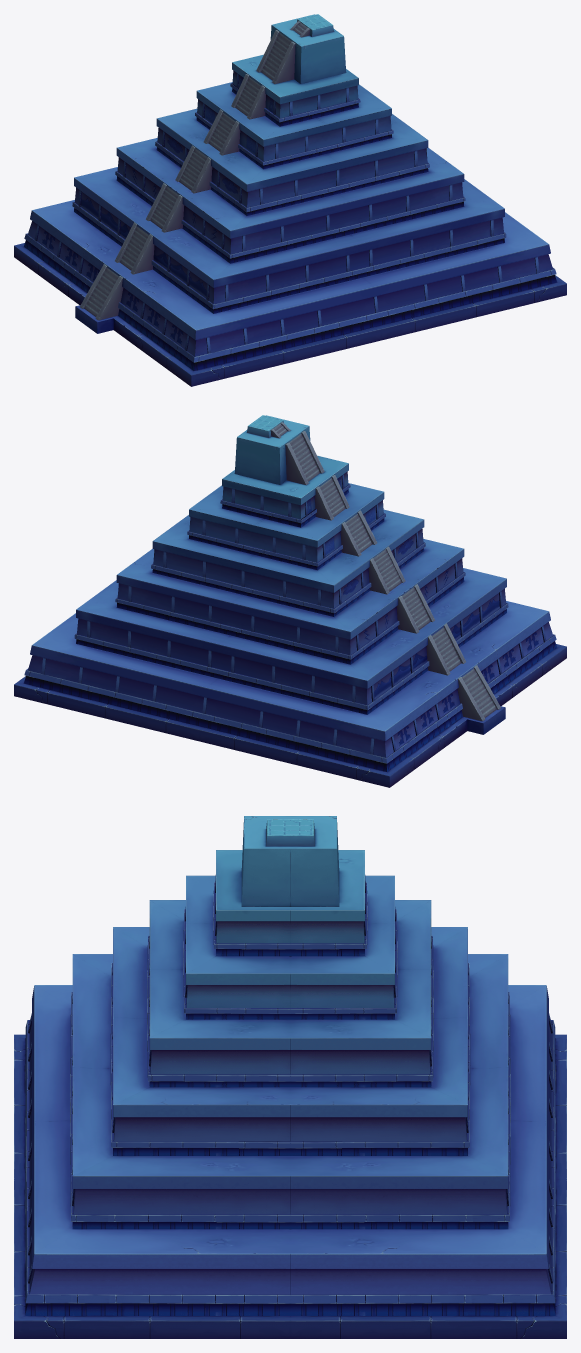
The model's file is jzt_aaa.FBX.
The picture shows the model from 3 angles, top to bottom: view 1: azimuth 30°, elevation 25°; view 2: azimuth 150°, elevation 25°; view 3: azimuth 270°, elevation 25°; orthographic projection. The views are drawn at different scales.
Parts seen in each view (by area): view 1: jitanzi; view 2: jitanzi; view 3: jitanzi.
Boxes of the visible parts, x1,y1,x2,y2 form: jitanzi: (14,14,566,386); jitanzi: (14,415,566,787); jitanzi: (14,816,566,1338).
Bounding box in the file's own units: 122 × 73.55 × 95.24.
